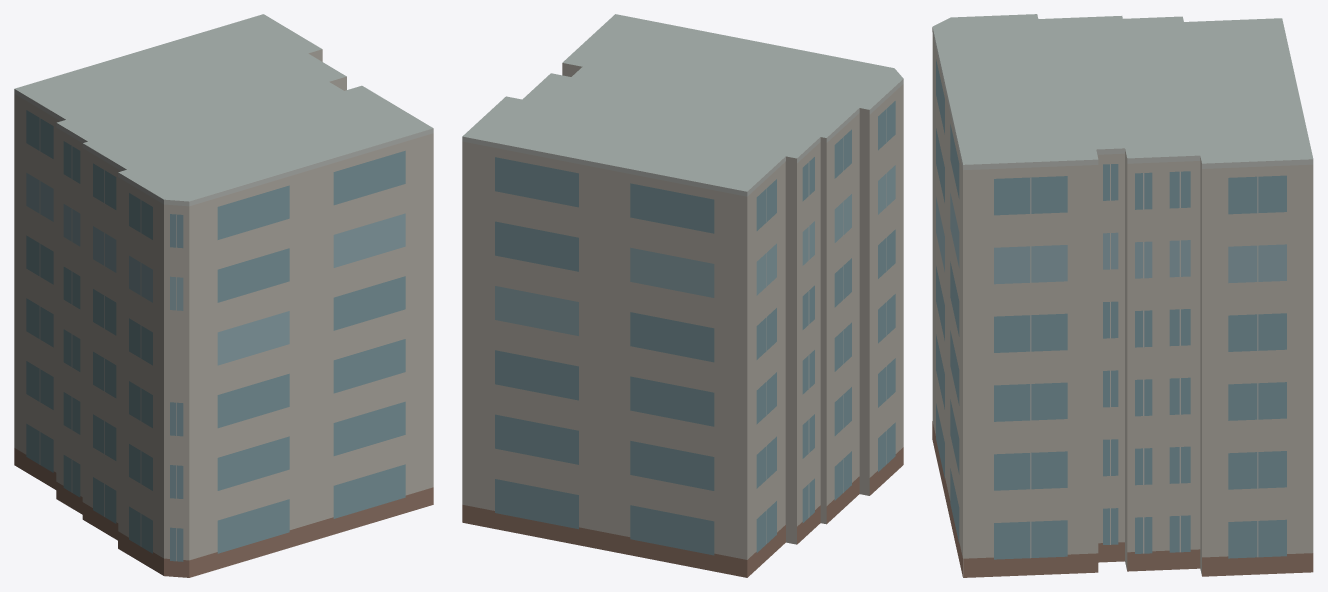
File: survey-upis-32664159.glb
3 renders of one model, left to right at view 1: azimuth 30°, elevation 25°; view 2: azimuth 150°, elevation 25°; view 3: azimuth 270°, elevation 25°, orthographic. The views are drawn at different scales.
Parts seen in each view (by area): view 1: survey-upis-32664159.tmp; view 2: survey-upis-32664159.tmp; view 3: survey-upis-32664159.tmp.
Part boxes in pixels (x1,y1,x2,y2): survey-upis-32664159.tmp: (14,14,433,577); survey-upis-32664159.tmp: (462,14,903,577); survey-upis-32664159.tmp: (932,14,1313,577).
Bounding box in the file's own units: 14.89 × 19 × 15.89.
